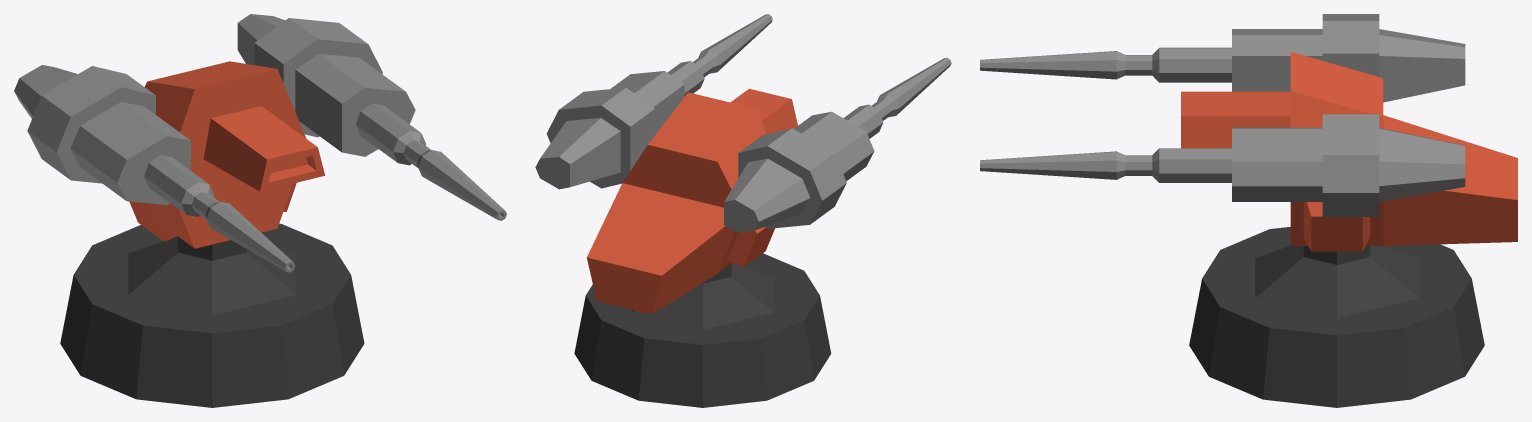
Rendered from Turrets_9.fbx.
The picture shows the model from 3 angles, left to right: view 1: azimuth 30°, elevation 25°; view 2: azimuth 150°, elevation 25°; view 3: azimuth 270°, elevation 25°; orthographic projection. The views are drawn at different scales.
Visible parts, largest first — view 1: Turret_2.001, Turret_2.002, Turret_2.003; view 2: Turret_2.002, Turret_2.001, Turret_2.003; view 3: Turret_2.002, Turret_2.001, Turret_2.003.
Boxes of the visible parts, x1=… form: Turret_2.001: x1=60, y1=223, x2=364, y2=407; Turret_2.002: x1=14, y1=14, x2=506, y2=272; Turret_2.003: x1=129, y1=61, x2=324, y2=248; Turret_2.002: x1=535, y1=14, x2=951, y2=232; Turret_2.001: x1=574, y1=253, x2=831, y2=407; Turret_2.003: x1=586, y1=88, x2=797, y2=314; Turret_2.002: x1=980, y1=14, x2=1465, y2=216; Turret_2.001: x1=1189, y1=226, x2=1484, y2=407; Turret_2.003: x1=1181, y1=52, x2=1517, y2=251.
Size of the model in its own units: 2.48 by 2.07 by 3.64.
